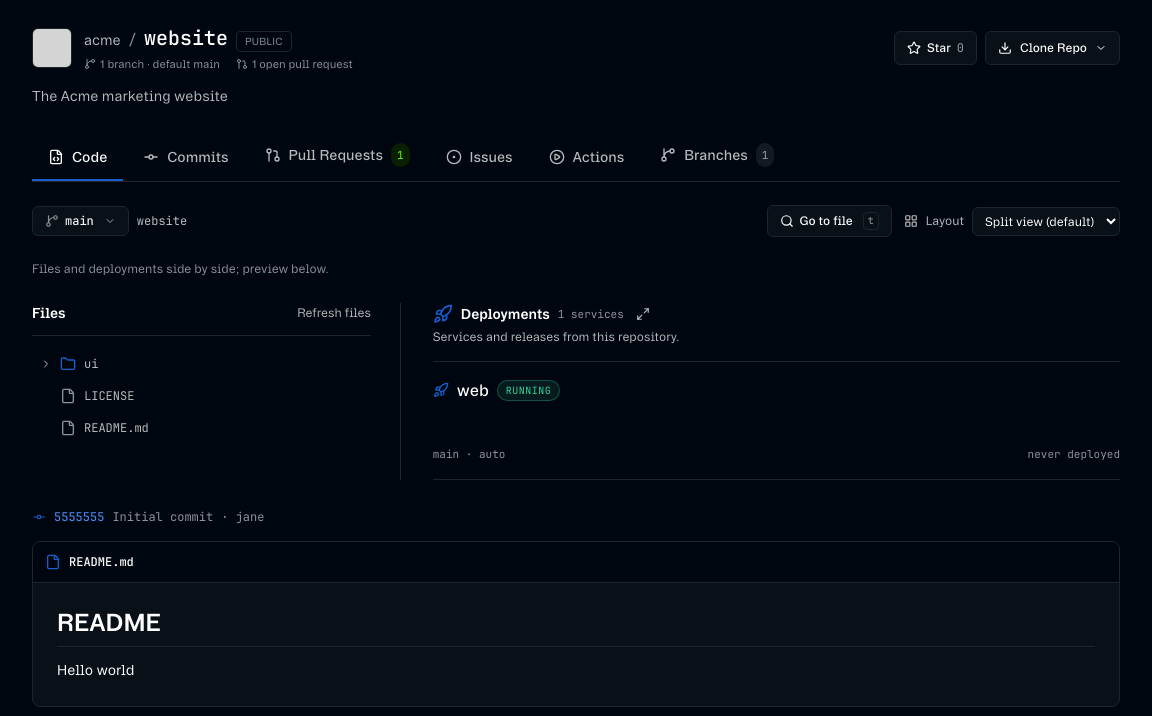
RepoView — workspace layouts › provides a read-only deployment view without mutation controls
Click the button with aria-label "View service web". click: x=473, y=390
box: [457,378,489,402]
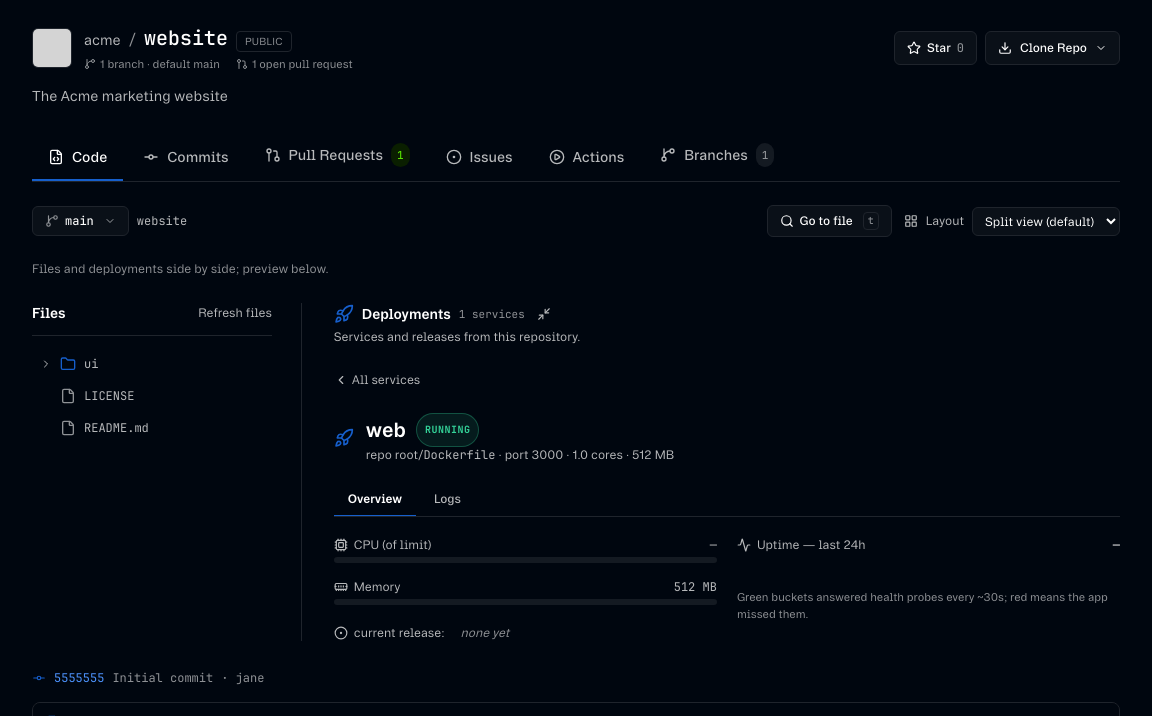
Expected: the text "CPU (of limit)" is shown, [334,537,432,553]
